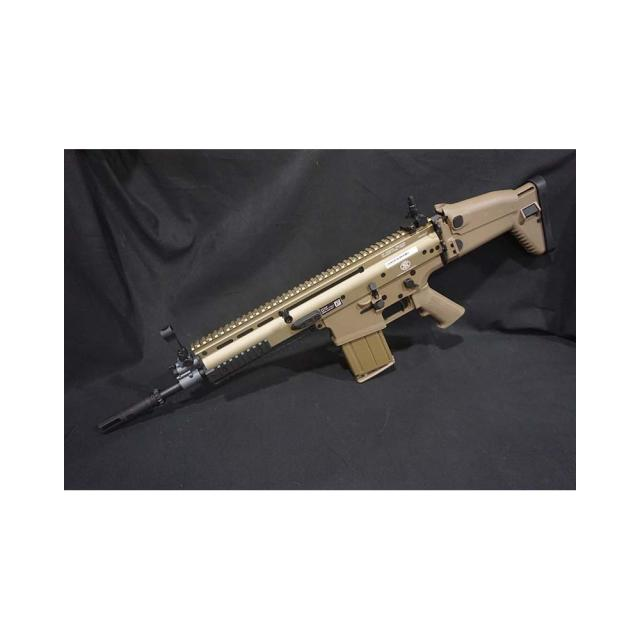Gun: (102, 162, 555, 470)
